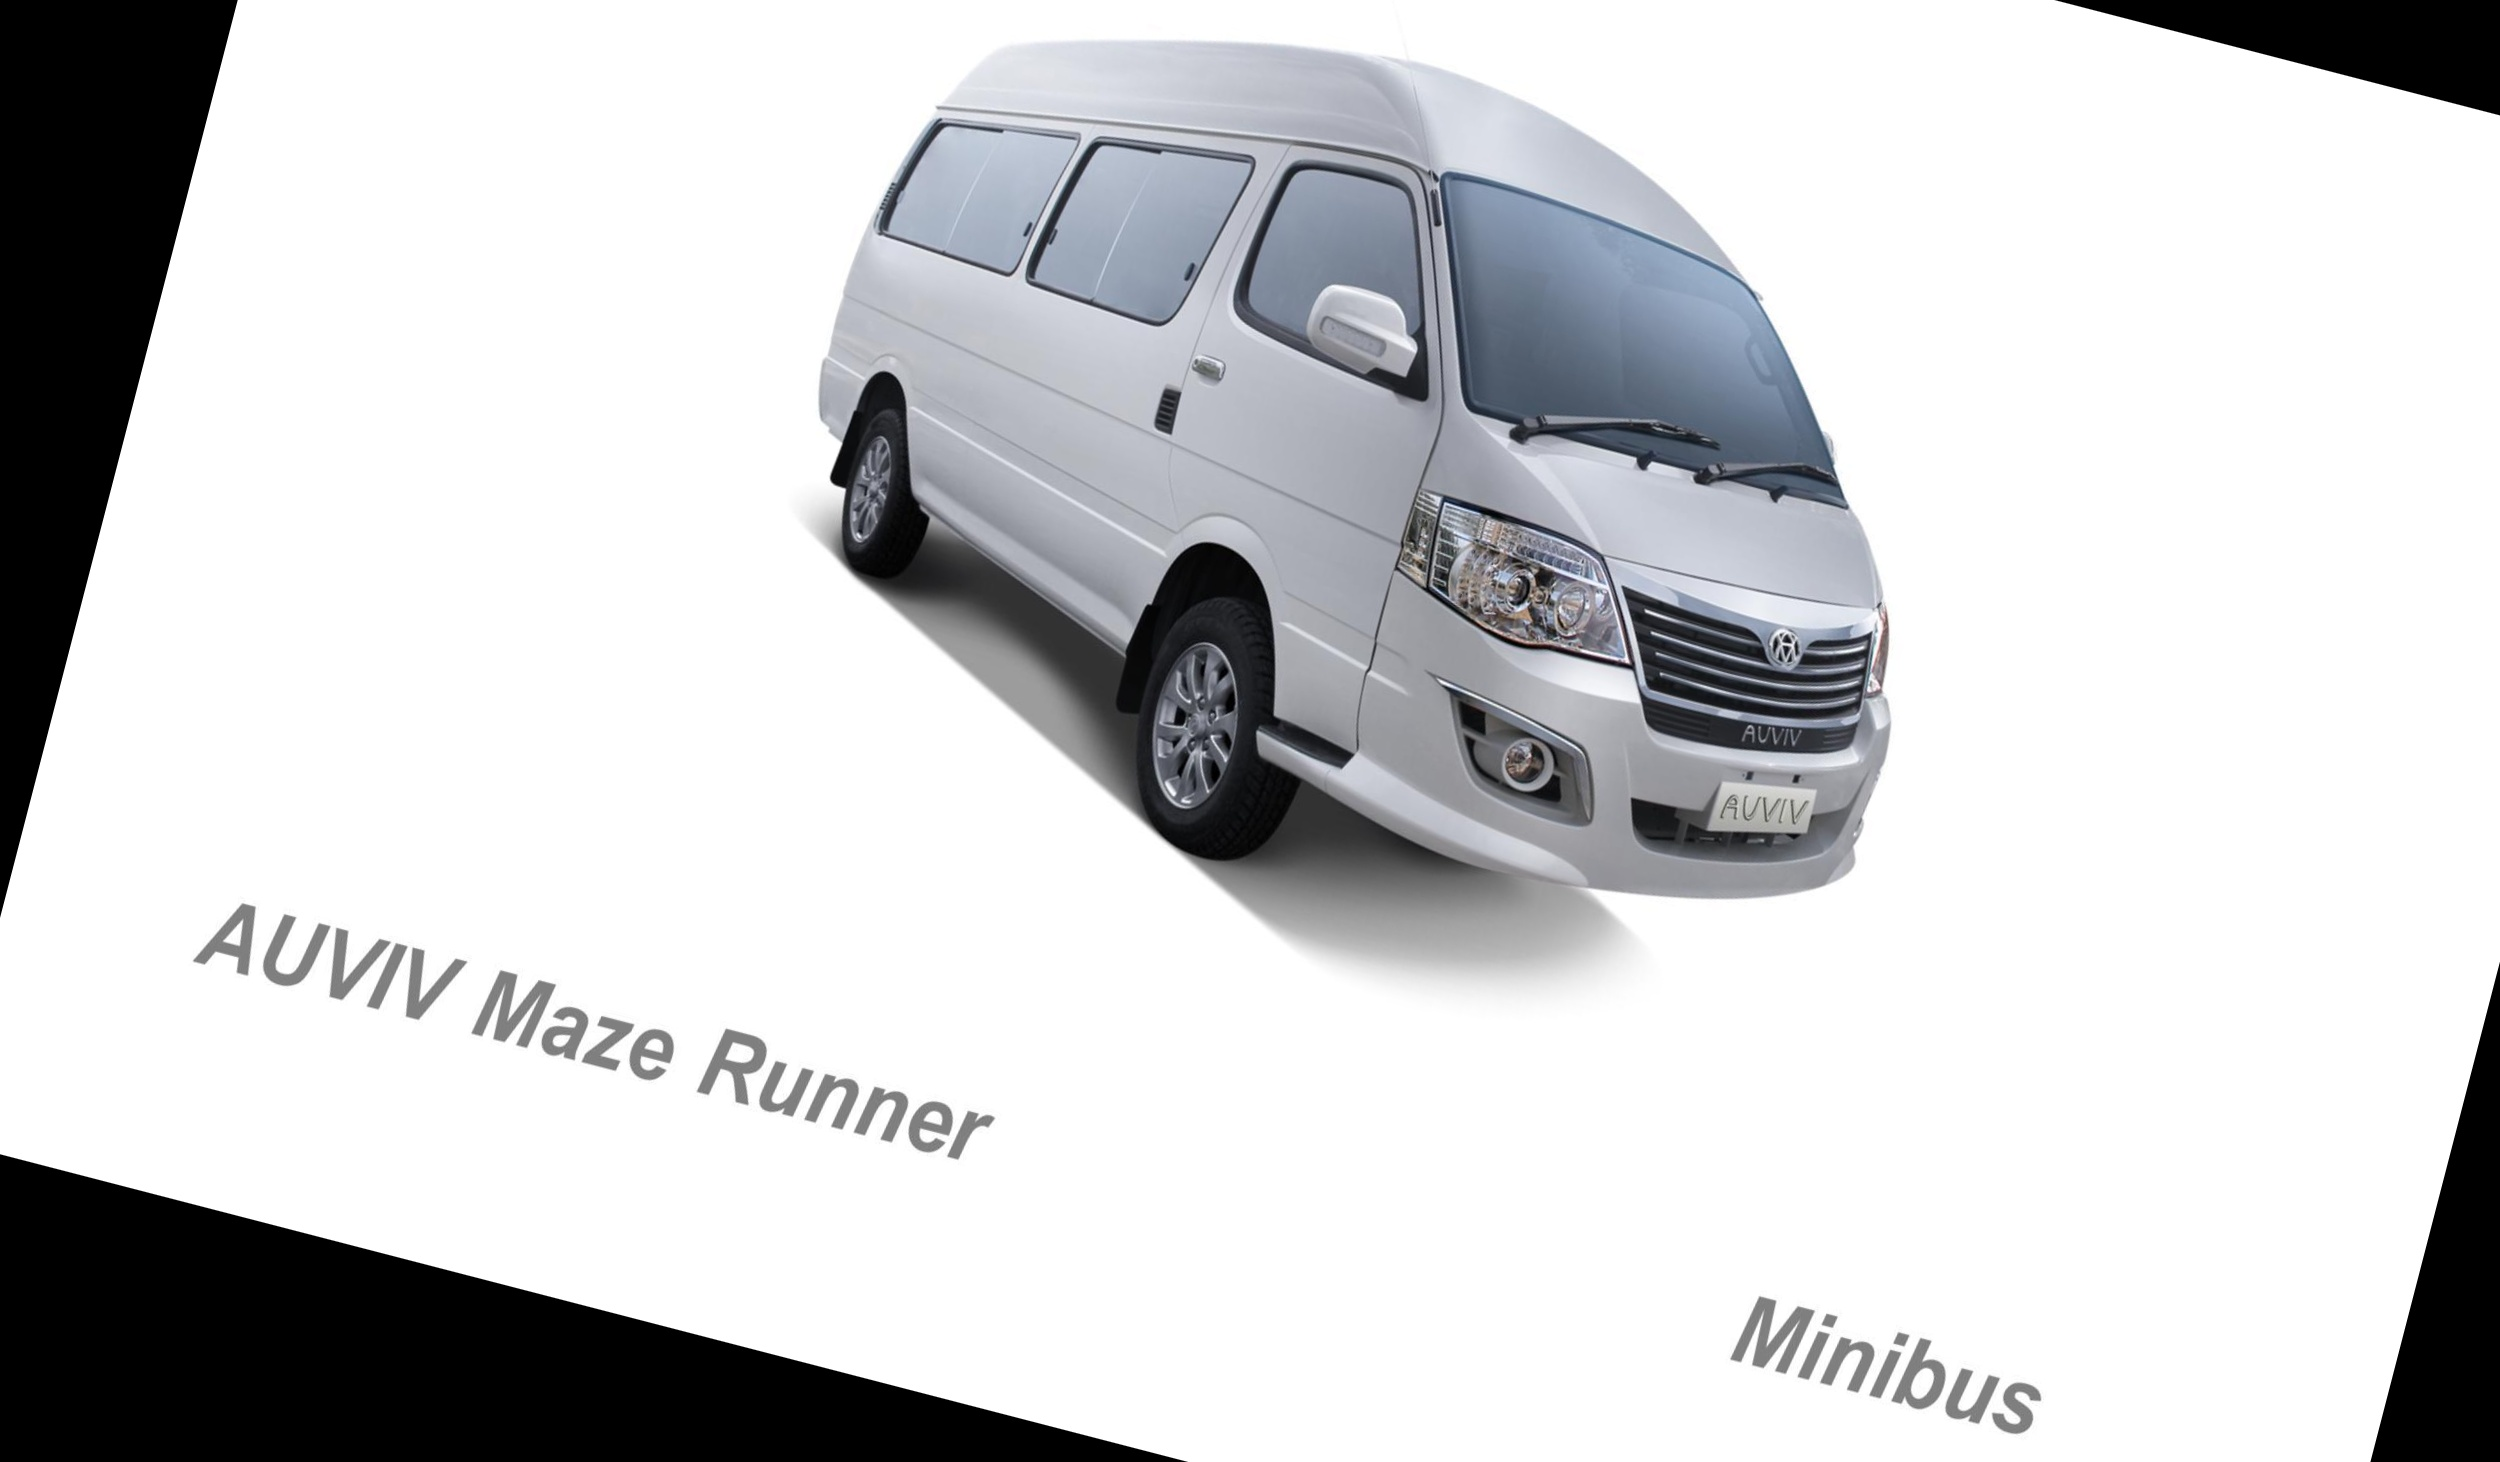van: (694, 0, 2084, 1065)
